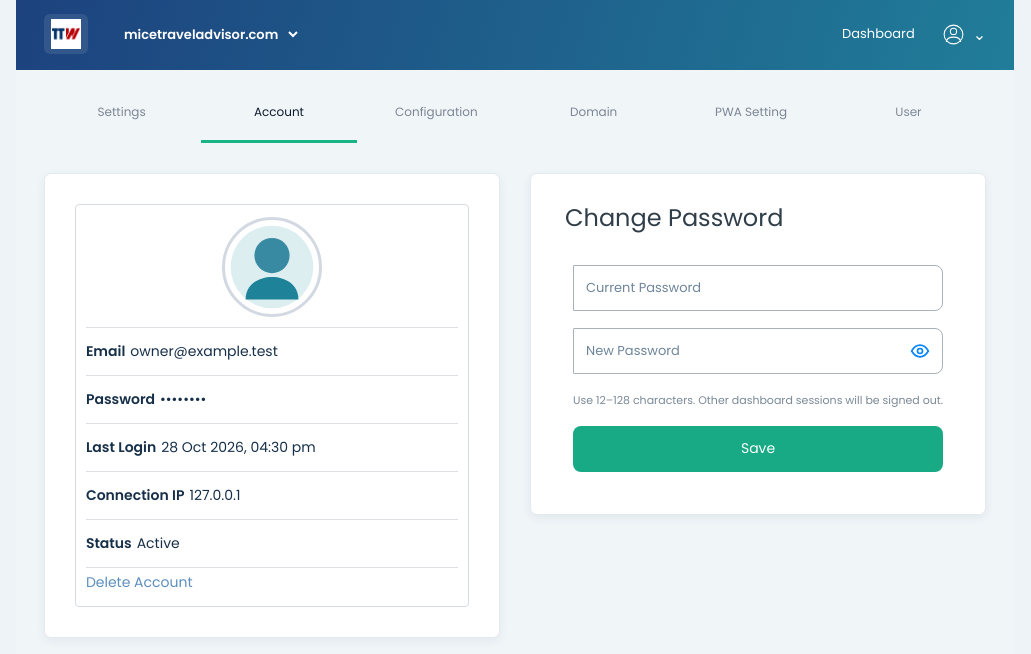
it: incorrect current-password errors keep the form available for correction
This screenshot has width=1031, height=654.
Expected: the text "owner@example.test" is shown, [130,341,278,362]
Type "wrong" into the password field labelled "Current Password" at (758, 288), box [573,265,943,311]
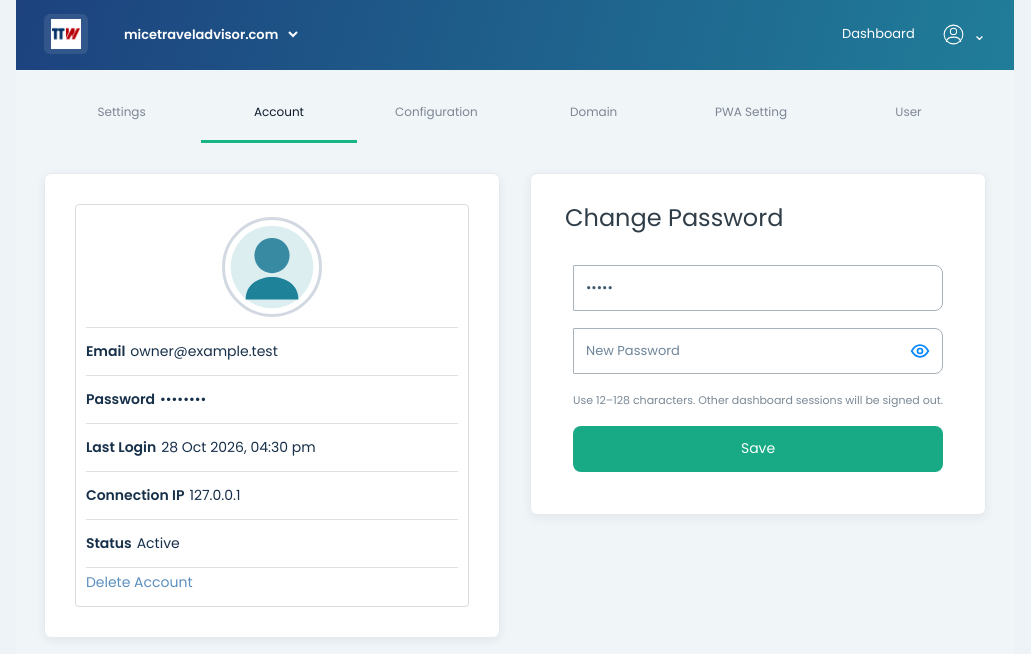
Type "new-password-456" into the password field labelled "New Password" at (736, 351), box [574,329,898,373]
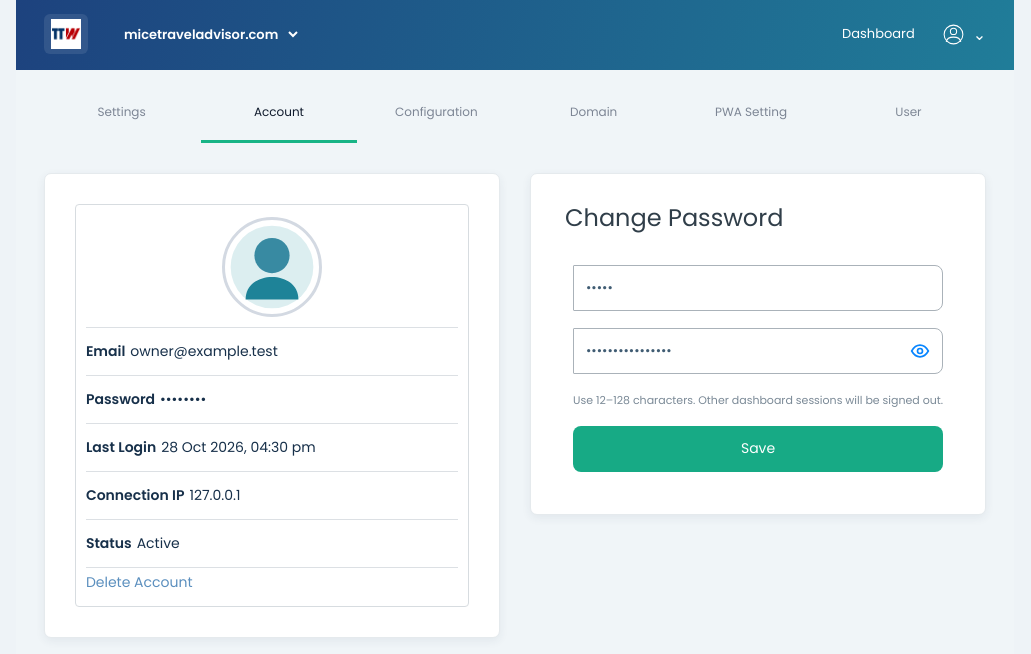
Click the button "Save" at (758, 449), box [573,426,943,472]
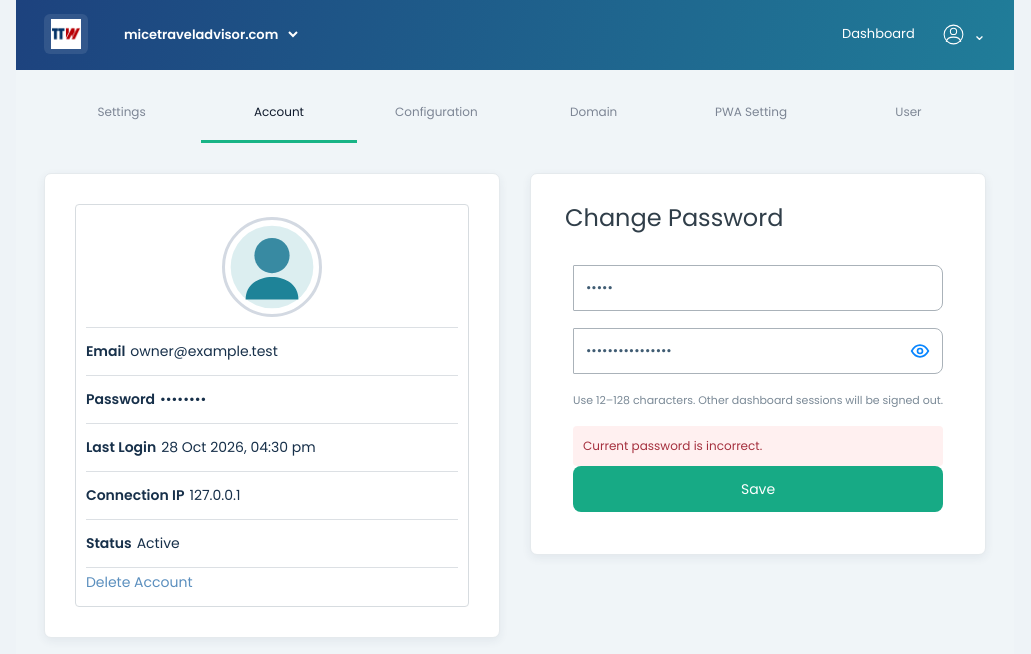
Expected: the button "Save" is enabled, [573,466,943,512]
Expected: the message reads "Current password is incorrect.", [583,437,762,454]
